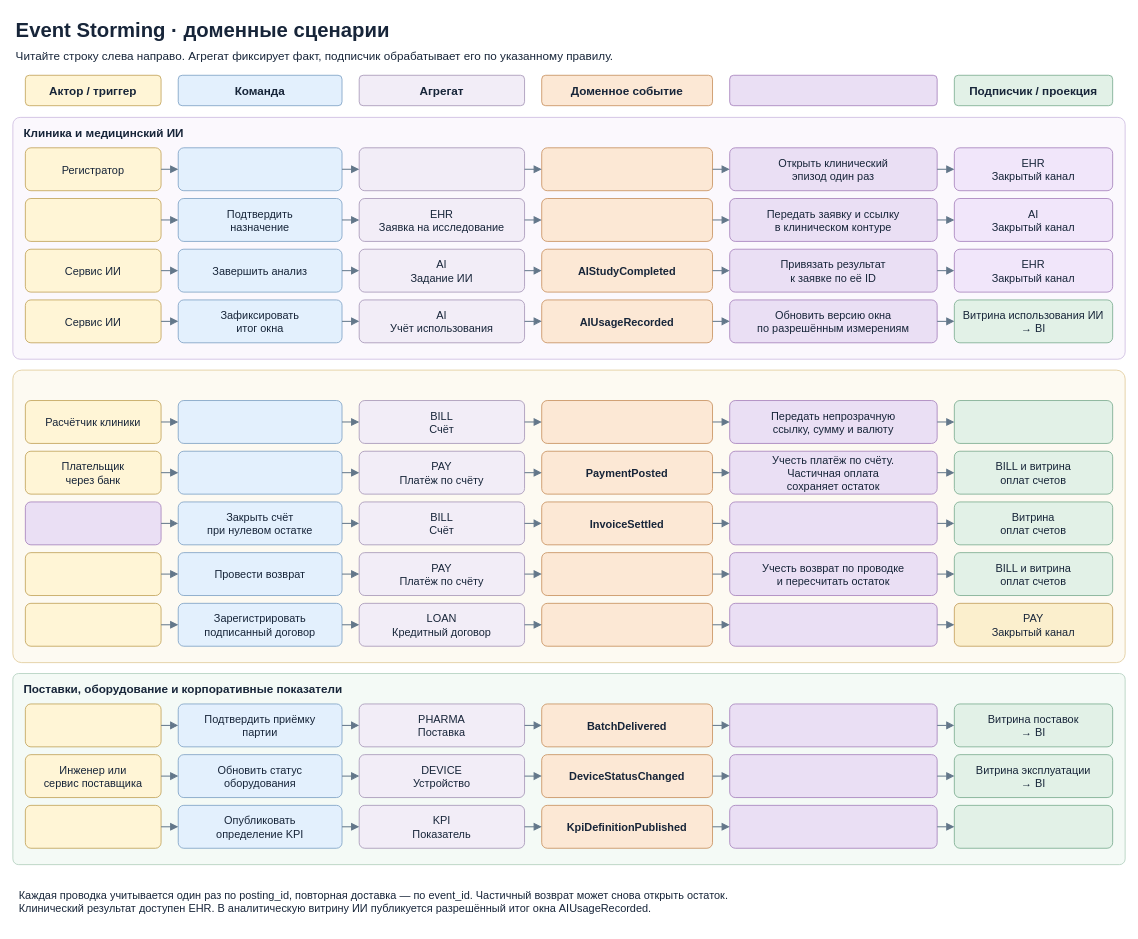
Some shapes in this 1138 by 939 pixel diagram are drawn without their labels. Here are the shapes that lost their labels. From the top down, the box of each, then its label:
(729, 74, 937, 106): Политика
(177, 147, 342, 191): Зарегистрировать визит
(358, 147, 525, 191): CLINIC Визит
(541, 147, 713, 191): VisitRegistered
(25, 198, 161, 241): Лечащий врач
(541, 198, 713, 241): ClinicalStudyRequested
(177, 400, 342, 443): Выставить счёт
(541, 400, 713, 443): InvoiceIssued
(954, 400, 1113, 443): PAY и витрина оплат счетов
(177, 450, 342, 494): Провести платёж
(25, 501, 161, 545): Политика BILL после проводки
(12, 369, 1125, 663): Выставление счетов, банковские расчёты и кредитование
(729, 501, 937, 545): Учесть закрытие текущего цикла оплаты
(25, 552, 161, 596): Оператор банка
(541, 552, 713, 596): RefundPosted
(25, 603, 161, 646): Кредитный специалист и заёмщик
(541, 603, 713, 646): LoanAgreementSigned
(729, 603, 937, 646): Передать сведения расчётам по внутрибанковскому контракту
(25, 703, 161, 747): Сотрудник площадки
(729, 703, 937, 747): Проецировать поставку по партии и площадке
(729, 754, 937, 798): Обновить статус устройства и пересчитать итог площадки
(25, 805, 161, 848): Методолог головного офиса
(729, 805, 937, 848): Подключить версию формулы и разрешённые измерения
(954, 805, 1113, 848): BI-портал
